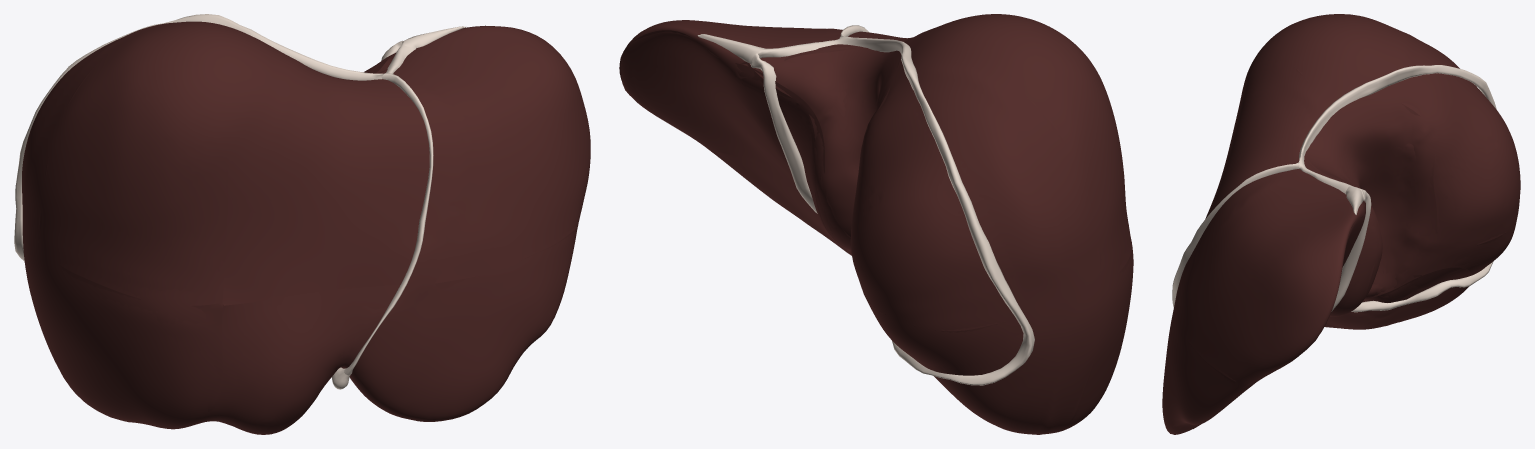
The model's file is liver-female.glb.
3 renders of one model, left to right at view 1: azimuth 30°, elevation 25°; view 2: azimuth 150°, elevation 25°; view 3: azimuth 270°, elevation 25°, orthographic. The views are drawn at different scales.
Parts seen in each view (by area): view 1: VH_F_capsule_of_the_liver, VH_F_left_superomedial_segment1, VH_F_left_inferomedial_segment, VH_F_right_anterosuperior_segment, VH_F_right_anteroinferior_segment, VH_F_coronary_ligament_of_liver, VH_F_left_superomedial_segment, VH_F_falciform_ligament, VH_F_left_anterolateral_segment; view 2: VH_F_capsule_of_the_liver, VH_F_bare_area_of_liver, VH_F_left_superomedial_segment, VH_F_coronary_ligament_of_liver, VH_F_diaphragmatic_surface_of_liver, VH_F_caudate_lobe, VH_F_right_posterosuperior_segment, VH_F_ligamentum_venosum, VH_F_gastric_impression_of_liver, VH_F_left_anterolateral_segment, VH_F_right_posteroinferior_segment, VH_F_right_anterosuperior_segment (+3 smaller); view 3: VH_F_capsule_of_the_liver, VH_F_bare_area_of_liver, VH_F_caudate_lobe, VH_F_coronary_ligament_of_liver, VH_F_left_superomedial_segment1, VH_F_right_posterosuperior_segment, VH_F_diaphragmatic_surface_of_liver, VH_F_left_superomedial_segment, VH_F_falciform_ligament, VH_F_ligamentum_venosum, VH_F_right_posteroinferior_segment, VH_F_suprarenal_impression_of_liver (+2 smaller).
Boxes of the visible parts, left/top/right/bottom form: VH_F_capsule_of_the_liver: left=22, top=21, right=590, bottom=434; VH_F_left_superomedial_segment1: left=222, top=55, right=433, bottom=305; VH_F_left_inferomedial_segment: left=208, top=284, right=398, bottom=433; VH_F_right_anterosuperior_segment: left=38, top=23, right=278, bottom=305; VH_F_right_anteroinferior_segment: left=39, top=264, right=223, bottom=426; VH_F_coronary_ligament_of_liver: left=14, top=14, right=413, bottom=261; VH_F_left_superomedial_segment: left=380, top=29, right=581, bottom=284; VH_F_falciform_ligament: left=344, top=73, right=433, bottom=375; VH_F_left_anterolateral_segment: left=342, top=226, right=577, bottom=419; VH_F_capsule_of_the_liver: left=619, top=14, right=1133, bottom=434; VH_F_bare_area_of_liver: left=749, top=47, right=1023, bottom=375; VH_F_left_superomedial_segment: left=622, top=22, right=840, bottom=178; VH_F_coronary_ligament_of_liver: left=767, top=36, right=1034, bottom=385; VH_F_diaphragmatic_surface_of_liver: left=619, top=30, right=996, bottom=425; VH_F_caudate_lobe: left=778, top=47, right=899, bottom=250; VH_F_right_posterosuperior_segment: left=851, top=61, right=1101, bottom=331; VH_F_ligamentum_venosum: left=751, top=53, right=817, bottom=213; VH_F_gastric_impression_of_liver: left=668, top=66, right=851, bottom=255; VH_F_left_anterolateral_segment: left=716, top=151, right=828, bottom=234; VH_F_right_posteroinferior_segment: left=866, top=299, right=1101, bottom=434; VH_F_right_anterosuperior_segment: left=897, top=30, right=1132, bottom=282; VH_F_capsule_of_the_liver: left=1162, top=14, right=1472, bottom=434; VH_F_bare_area_of_liver: left=1306, top=74, right=1520, bottom=298; VH_F_caudate_lobe: left=1305, top=98, right=1439, bottom=315; VH_F_coronary_ligament_of_liver: left=1298, top=65, right=1496, bottom=312; VH_F_left_superomedial_segment1: left=1199, top=64, right=1323, bottom=240; VH_F_right_posterosuperior_segment: left=1393, top=31, right=1517, bottom=244; VH_F_diaphragmatic_surface_of_liver: left=1170, top=201, right=1493, bottom=433; VH_F_left_superomedial_segment: left=1176, top=172, right=1365, bottom=381; VH_F_falciform_ligament: left=1172, top=162, right=1298, bottom=307; VH_F_ligamentum_venosum: left=1331, top=189, right=1371, bottom=311; VH_F_right_posteroinferior_segment: left=1386, top=226, right=1513, bottom=325; VH_F_suprarenal_impression_of_liver: left=1399, top=267, right=1471, bottom=289.
Bounding box in the file's own units: 0.2471 × 0.17 × 0.1663.
